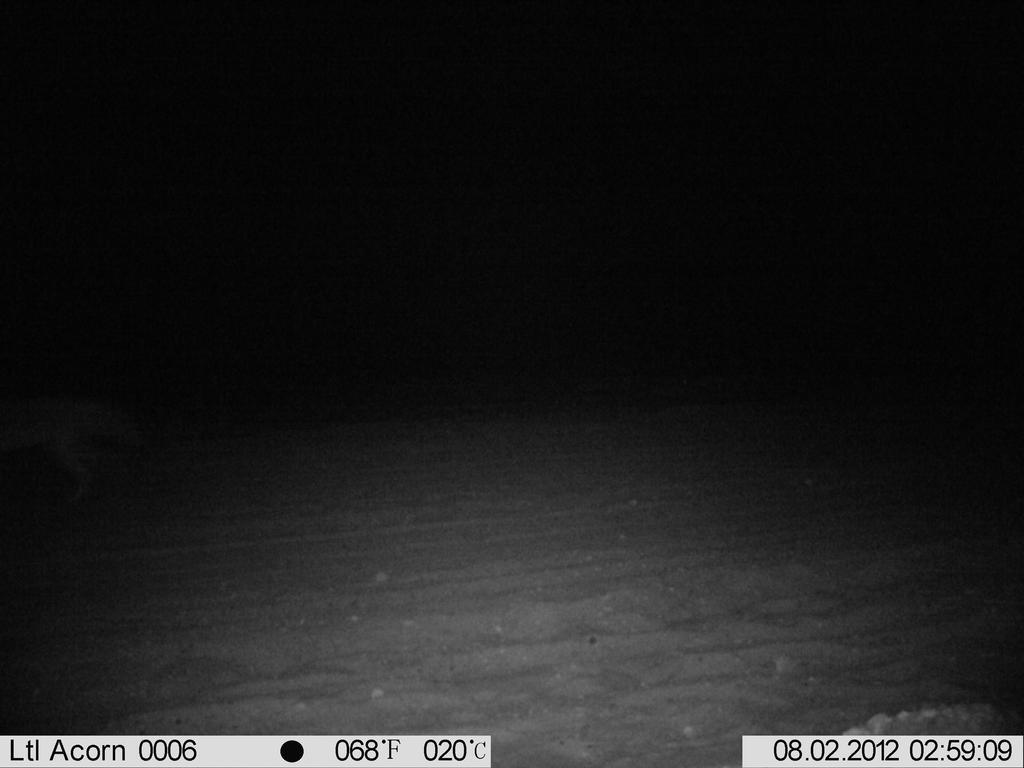coyote: (2, 382, 158, 513)
